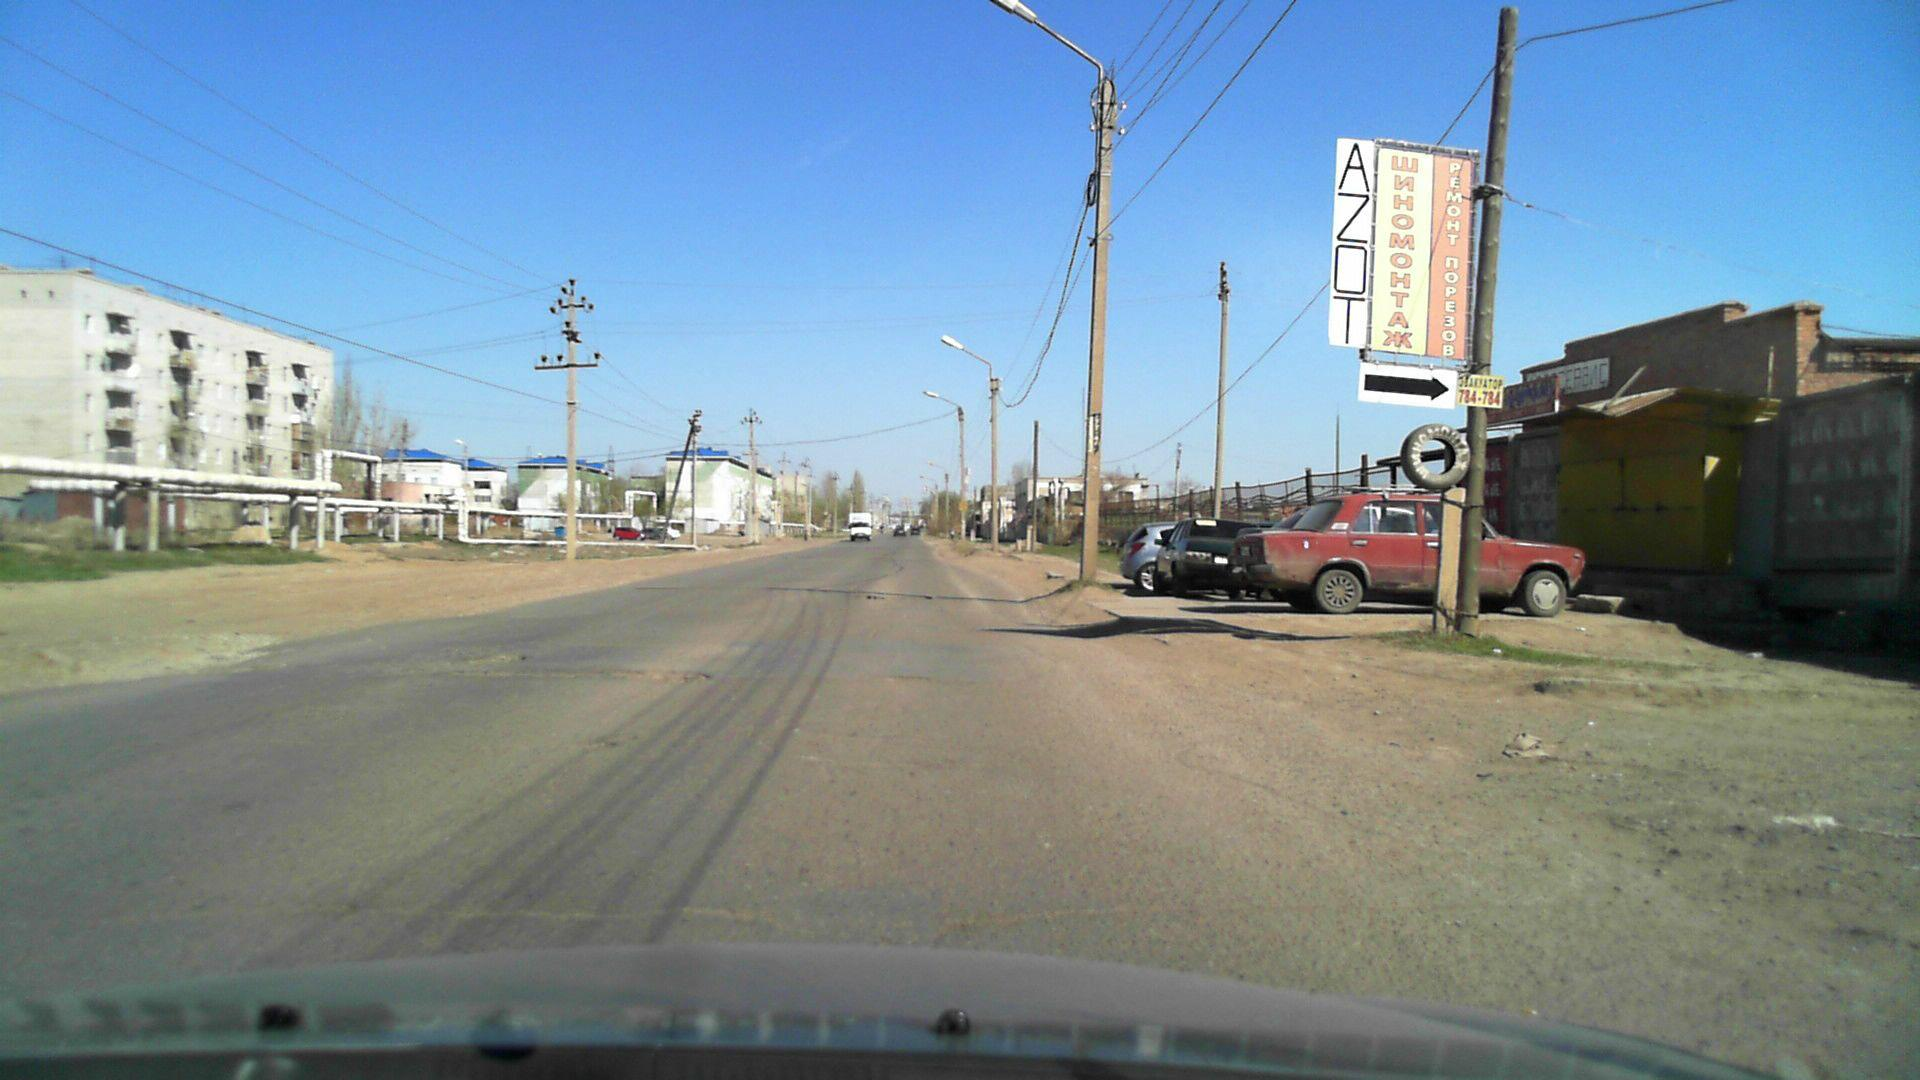8_3_1: (1360, 363, 1458, 410)
